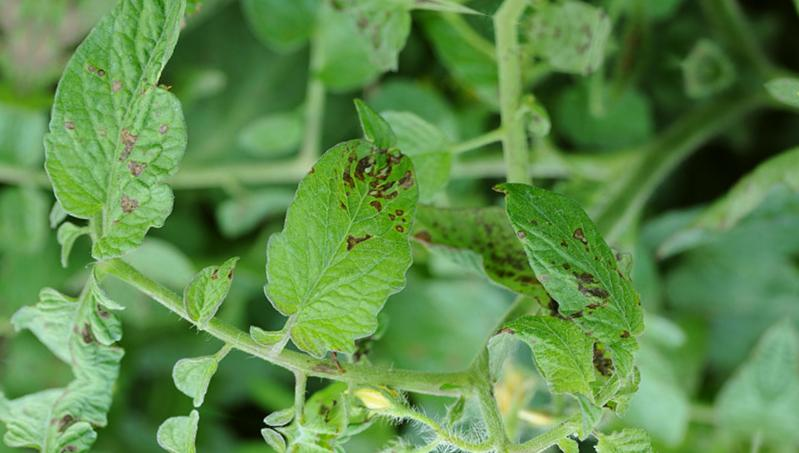Tomato leaf bacterial spot: (17, 0, 243, 262), (241, 84, 439, 370), (485, 161, 694, 396)
